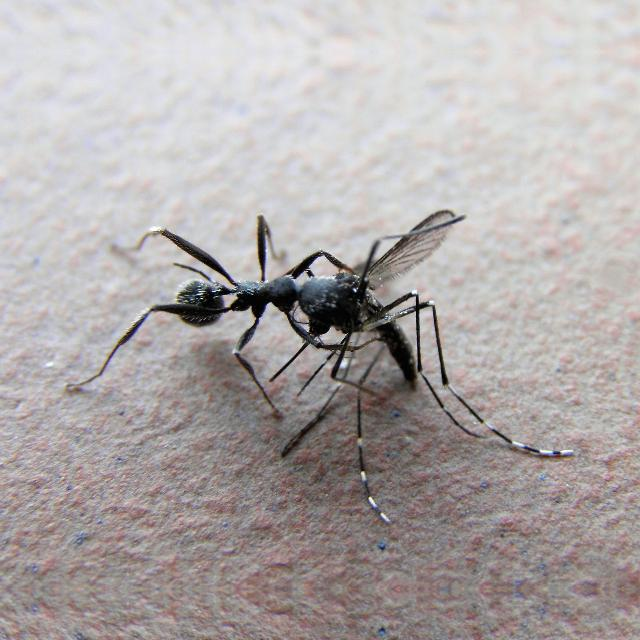Apheanogaster: (134, 203, 428, 384)
